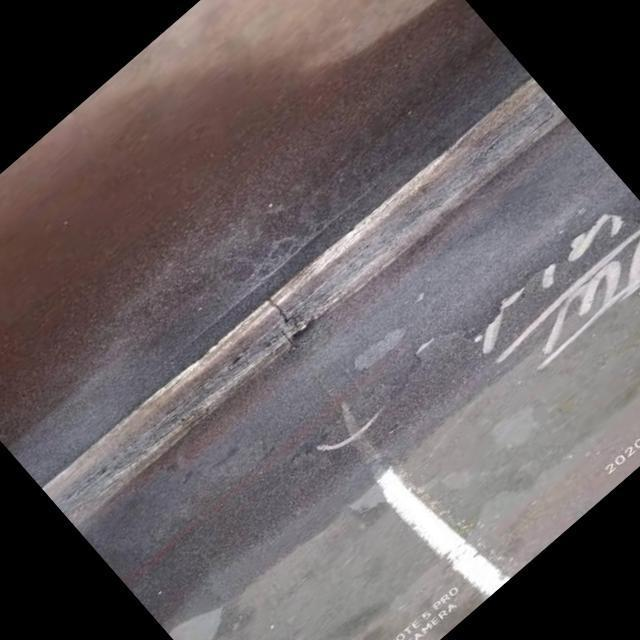defect: (263, 293, 304, 328)
